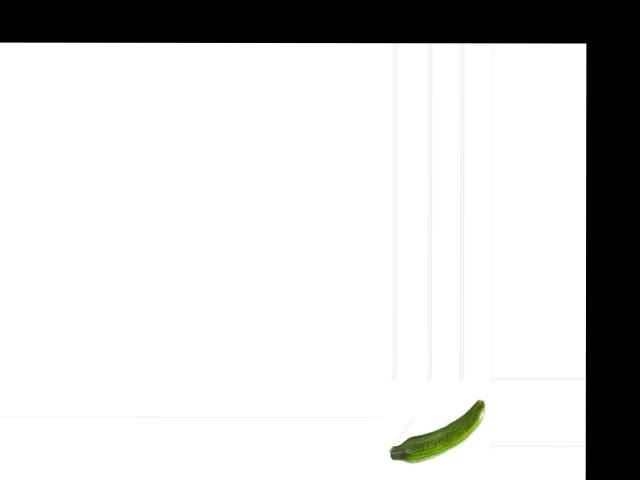cucumber: (388, 399, 484, 463)
